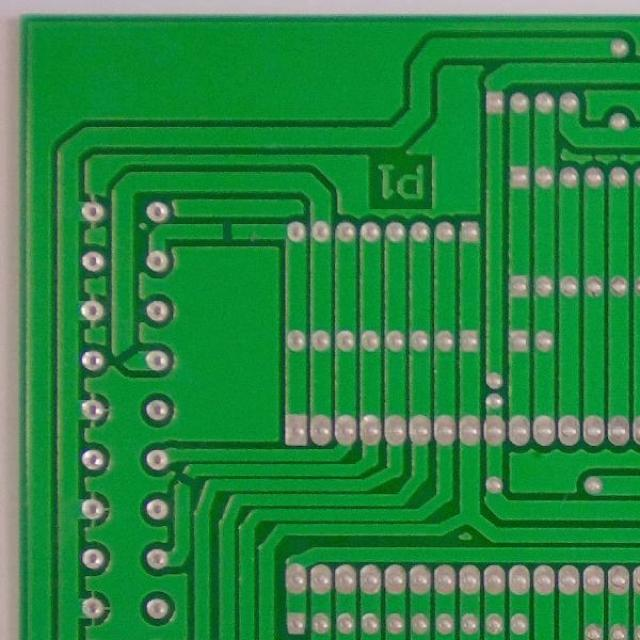Open_Circuit: (214, 210, 244, 254), (168, 467, 200, 497)
